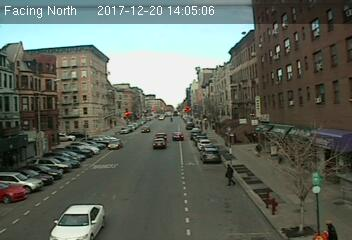car: (201, 147, 220, 163), (107, 139, 123, 150), (152, 138, 166, 149), (171, 131, 184, 141)
pedestrian: (223, 163, 238, 187)
